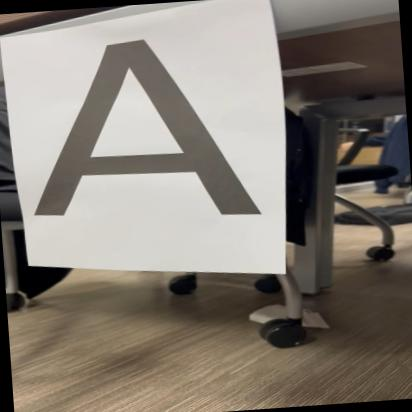seat: (8, 29, 270, 242)
